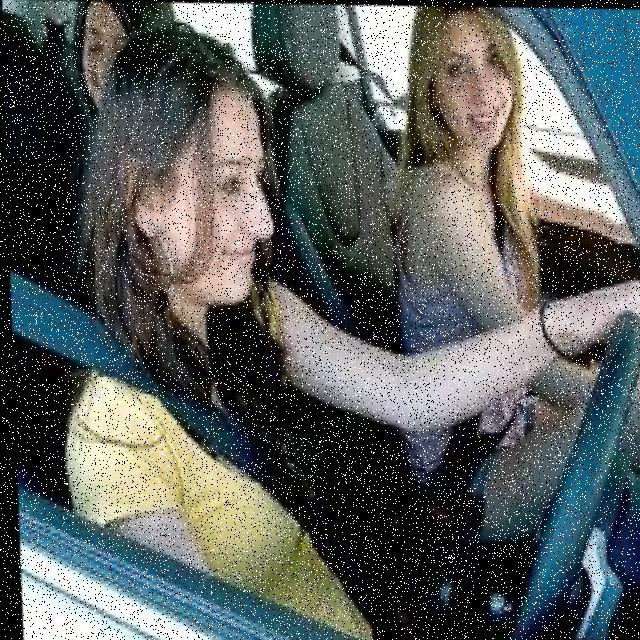seatbelt: (67, 244, 353, 636)
